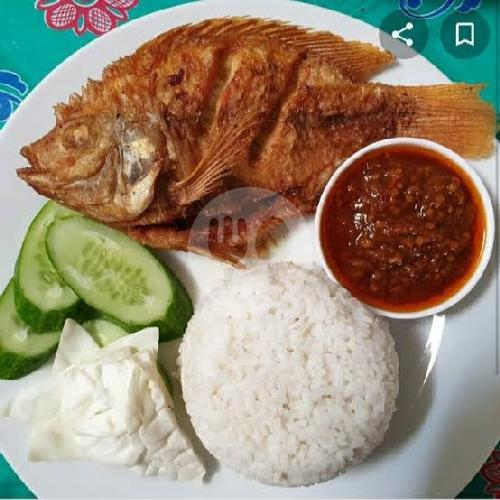buah_sayur_lainnya: (64, 358, 152, 454), (23, 235, 124, 313)
buah_sayur_vitA: (369, 174, 458, 278)
daging: (121, 53, 311, 160)
makanan_berpati: (219, 305, 339, 438)
